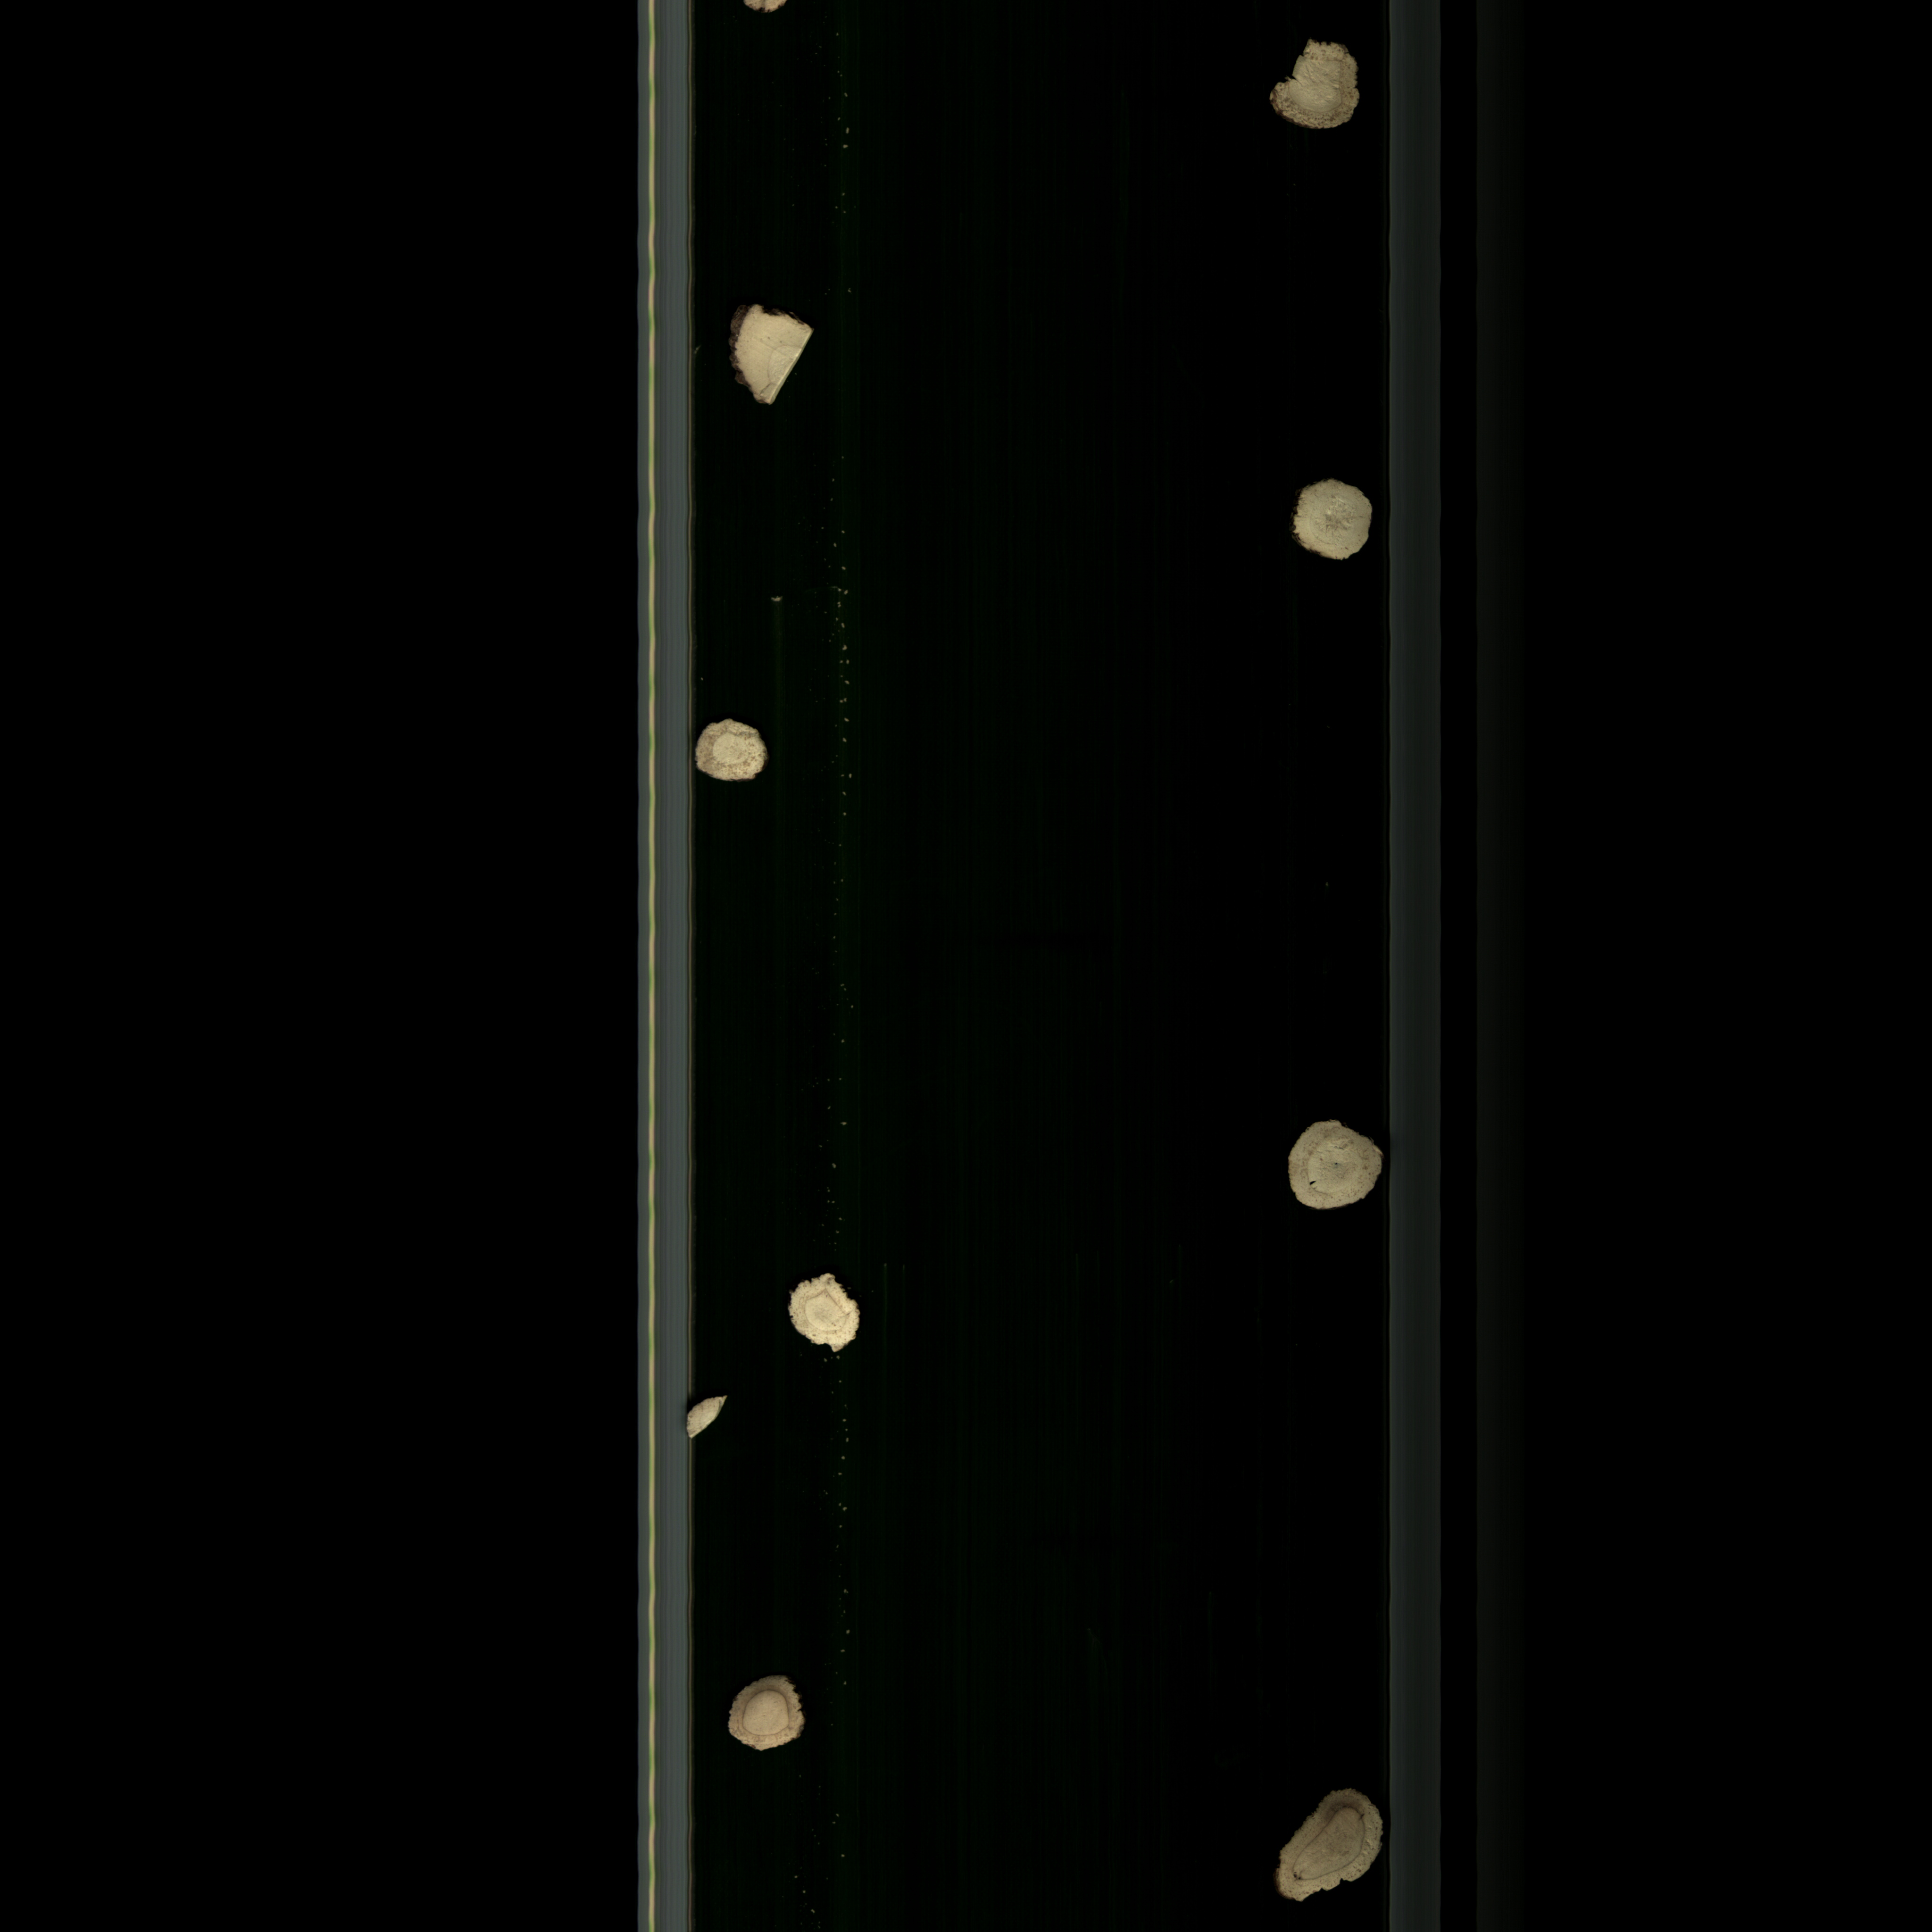debris: (724, 283, 819, 414), (1283, 1115, 1384, 1228)
distortion: (778, 1270, 869, 1359)
moldy: (1267, 1787, 1384, 1905), (1258, 28, 1368, 143), (722, 1672, 812, 1760), (692, 713, 778, 794)
v: (683, 1389, 736, 1444)
